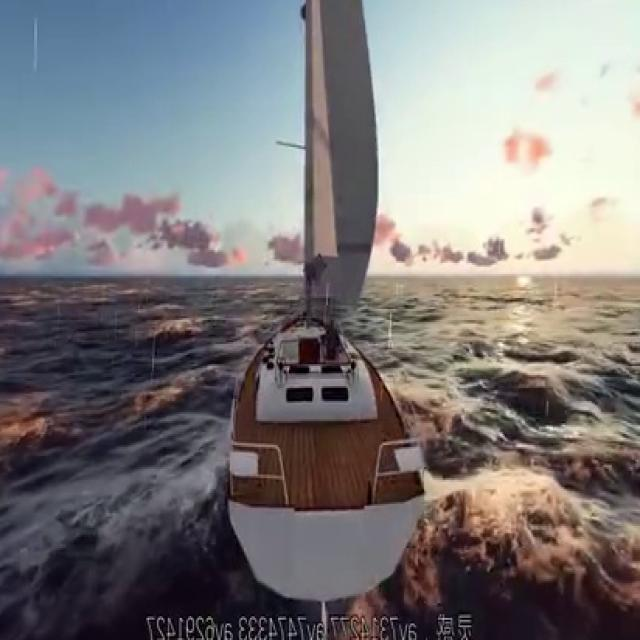sailboat: (220, 0, 432, 594)
